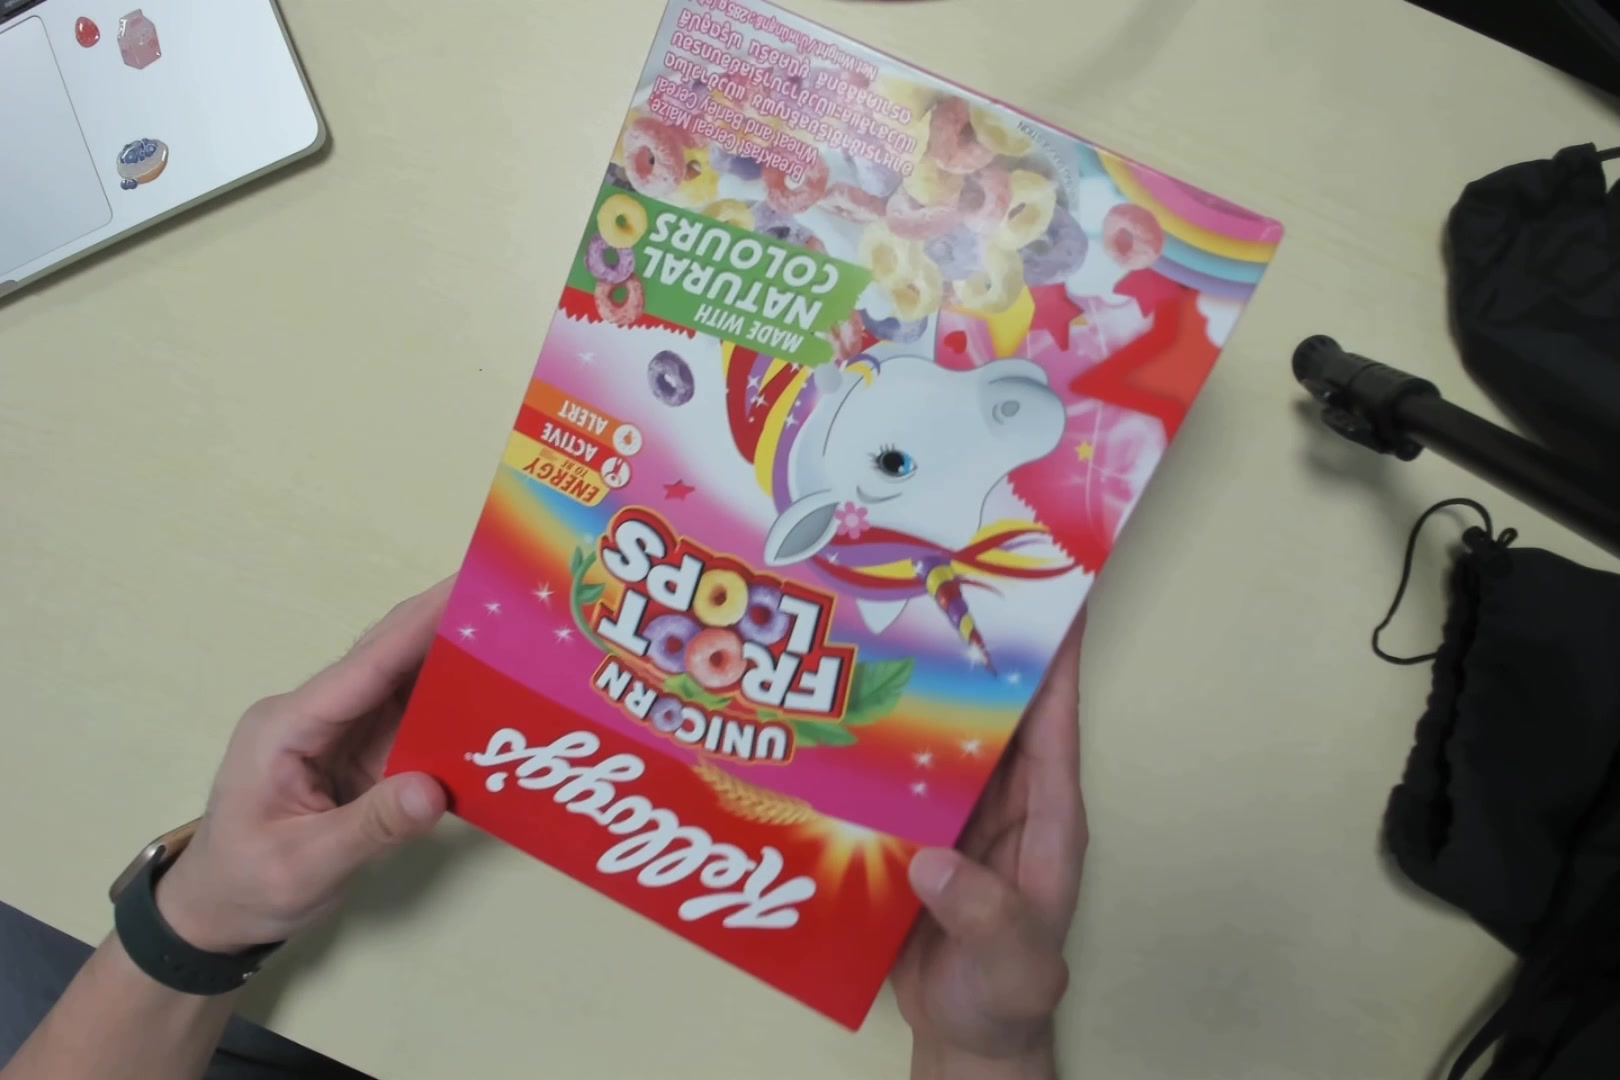BreakfastCereals_200-299g_Halal_NonHealthy: (439, 2, 1217, 979)
